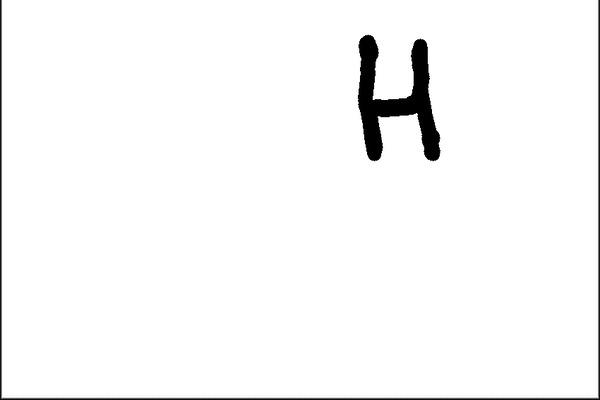H: (347, 28, 454, 166)
